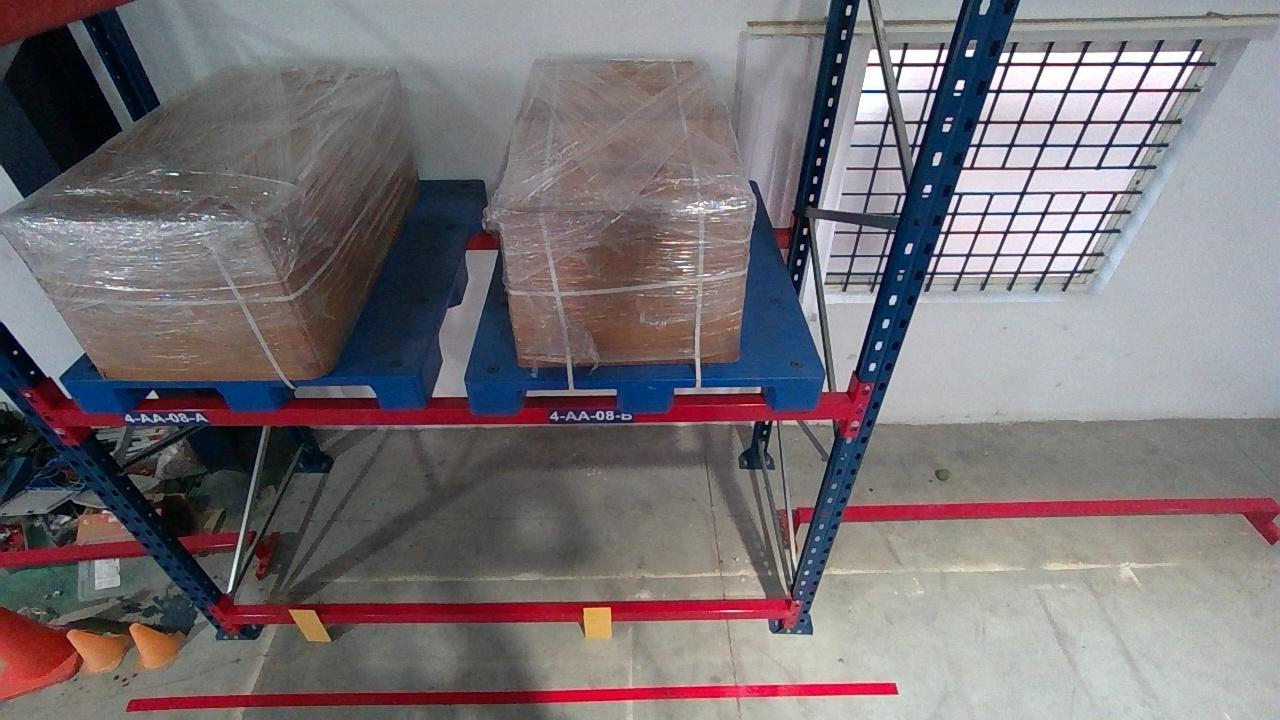h_rack: (39, 401, 858, 426), (222, 607, 790, 625)
orange_strip: (287, 609, 333, 641), (581, 605, 612, 638)
red_line: (120, 681, 901, 708)
small_pallet: (44, 376, 421, 410), (466, 376, 825, 410)
